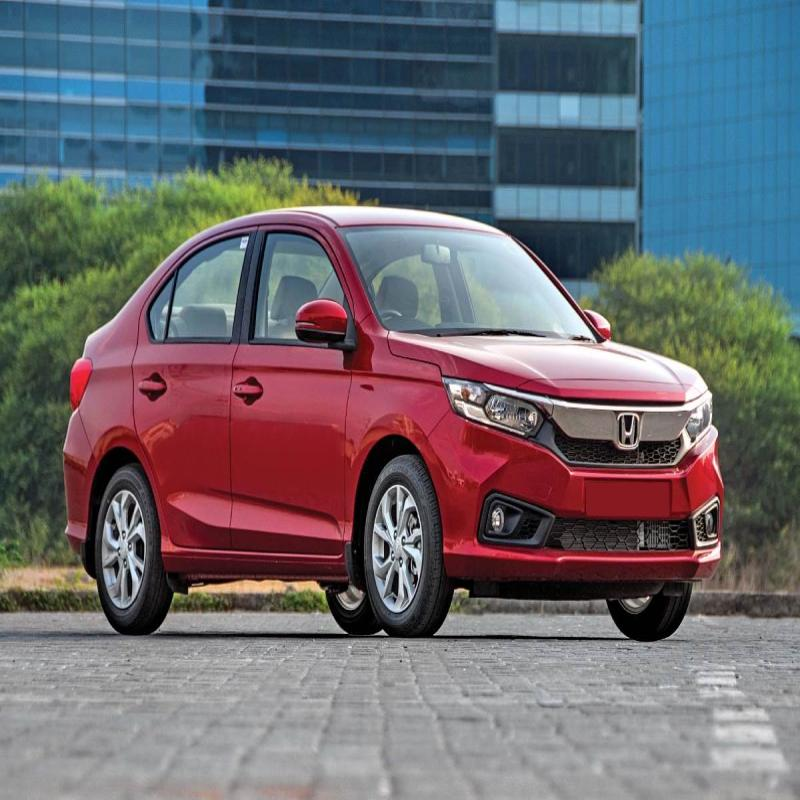car: (64, 188, 716, 657)
